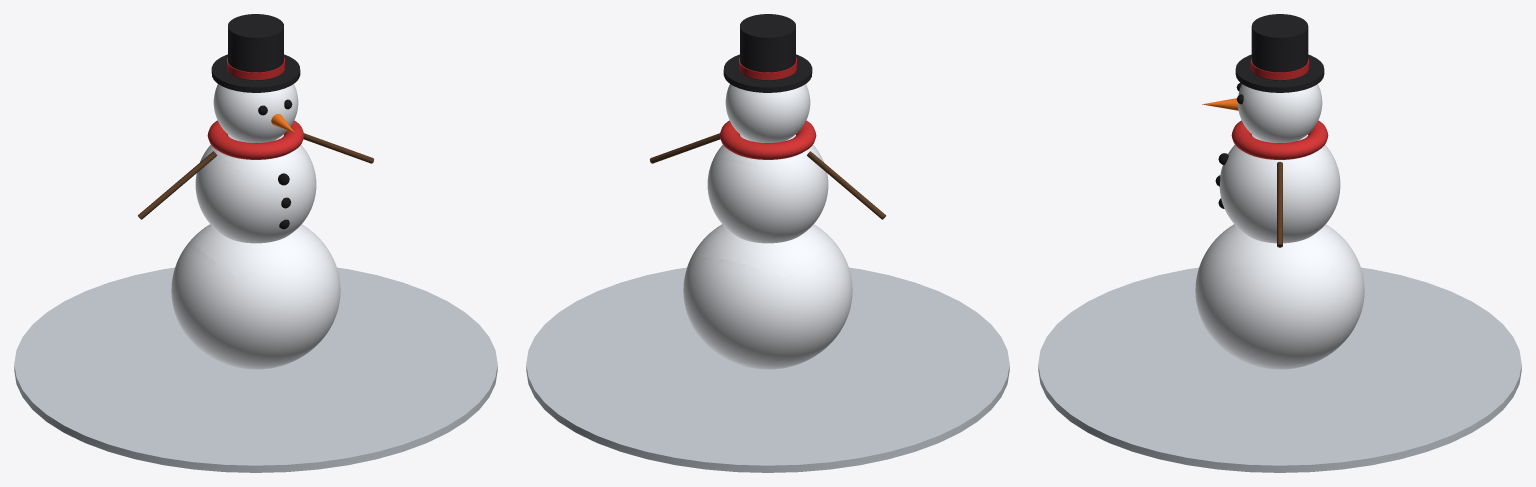
Rendered from snowman.glb.
The picture shows the model from 3 angles, left to right: view 1: azimuth 30°, elevation 25°; view 2: azimuth 150°, elevation 25°; view 3: azimuth 270°, elevation 25°; orthographic projection.
Visible parts, largest first — view 1: Ground, Bottom, Middle, Head, Hat Top, Scarf, Hat Brim, Arm, Hat Band; view 2: Ground, Bottom, Middle, Head, Hat Top, Scarf, Hat Brim, Arm, Hat Band; view 3: Ground, Bottom, Middle, Head, Hat Top, Scarf, Hat Brim, Hat Band, Arm.2.
Part boxes in pixels (<box>): Ground: <box>14,267,497,472</box>; Bottom: <box>171,224,340,369</box>; Middle: <box>195,134,316,243</box>; Head: <box>213,84,298,142</box>; Hat Top: <box>228,14,283,80</box>; Scarf: <box>207,120,304,159</box>; Hat Brim: <box>211,54,300,92</box>; Arm: <box>138,151,216,219</box>; Hat Band: <box>227,57,284,80</box>; Ground: <box>526,267,1009,472</box>; Bottom: <box>683,224,852,369</box>; Middle: <box>707,134,828,243</box>; Head: <box>725,84,810,142</box>; Hat Top: <box>740,14,795,80</box>; Scarf: <box>719,120,816,159</box>; Hat Brim: <box>723,54,812,92</box>; Arm: <box>807,151,885,219</box>; Hat Band: <box>739,57,796,80</box>; Ground: <box>1038,267,1521,472</box>; Bottom: <box>1195,224,1364,369</box>; Middle: <box>1219,134,1340,243</box>; Head: <box>1238,84,1322,142</box>; Hat Top: <box>1251,14,1308,80</box>; Scarf: <box>1231,120,1328,159</box>; Hat Brim: <box>1235,54,1324,92</box>; Hat Band: <box>1250,58,1309,80</box>; Arm.2: <box>1277,162,1282,247</box>.
Bounding box in the file's own units: 2.4 × 1.89 × 2.4.
